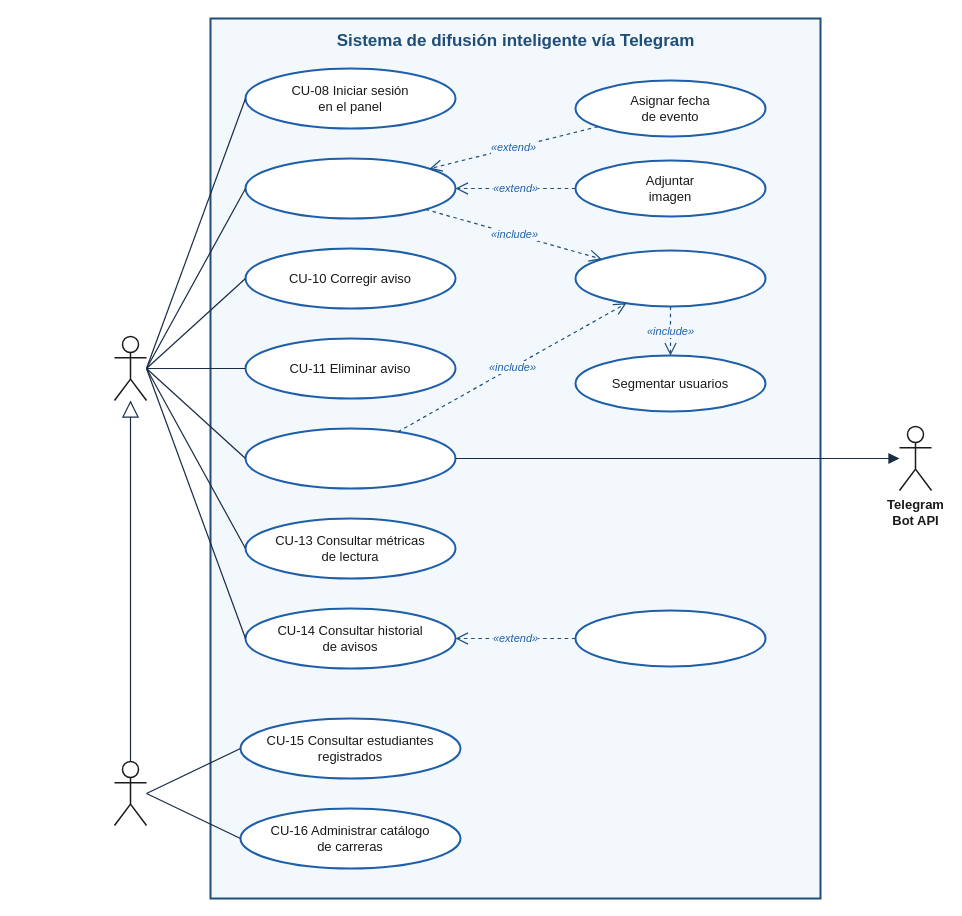
Some shapes in this 962 by 916 pixel diagram are drawn without their labels. Each missing label, with the centre of its shape:
Administrador (panel web): the point at 130,793
Coordinador (panel web): the point at 130,368
CU-09 Crear aviso: the point at 350,188
CU-12 Enviar aviso: the point at 350,458
Filtrar avisos: the point at 670,638
Seleccionar destinatarios: the point at 670,278
